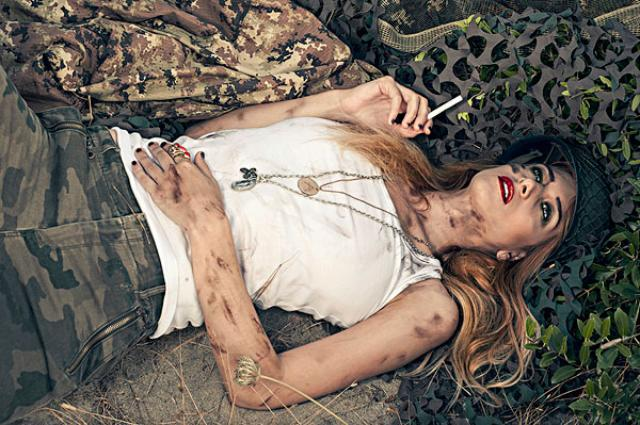Cigarette: (422, 95, 463, 123)
